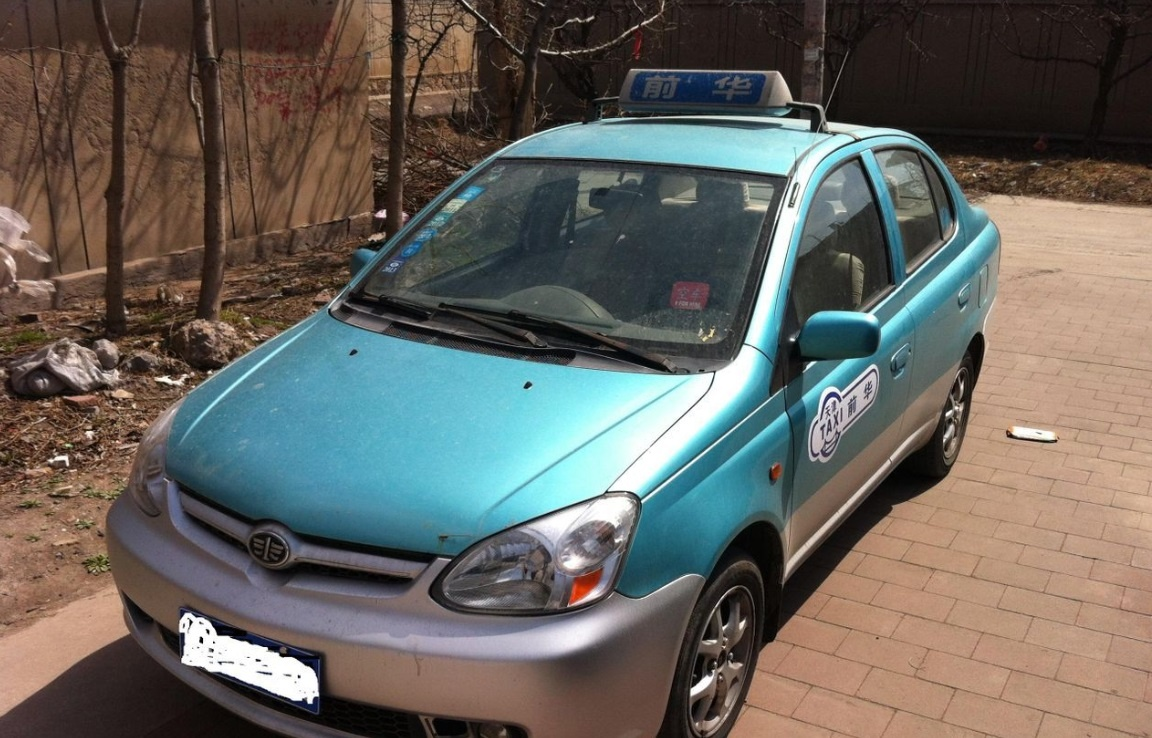taxi: (118, 72, 995, 738)
